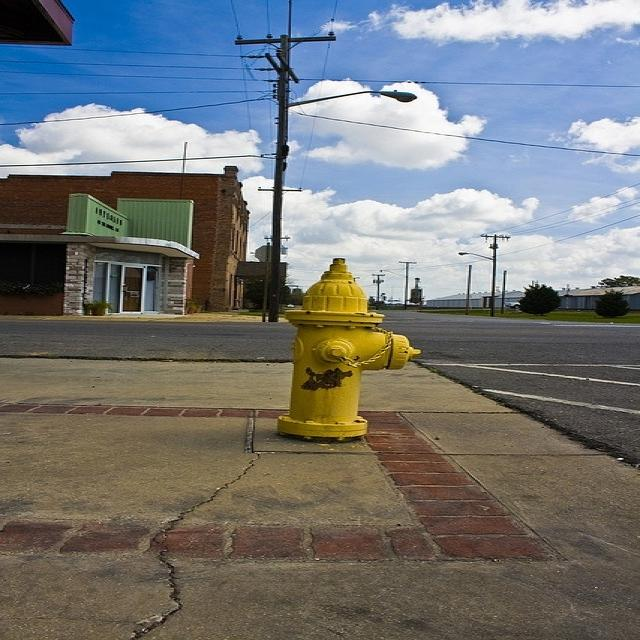fire_hydrant: (238, 221, 443, 443)
